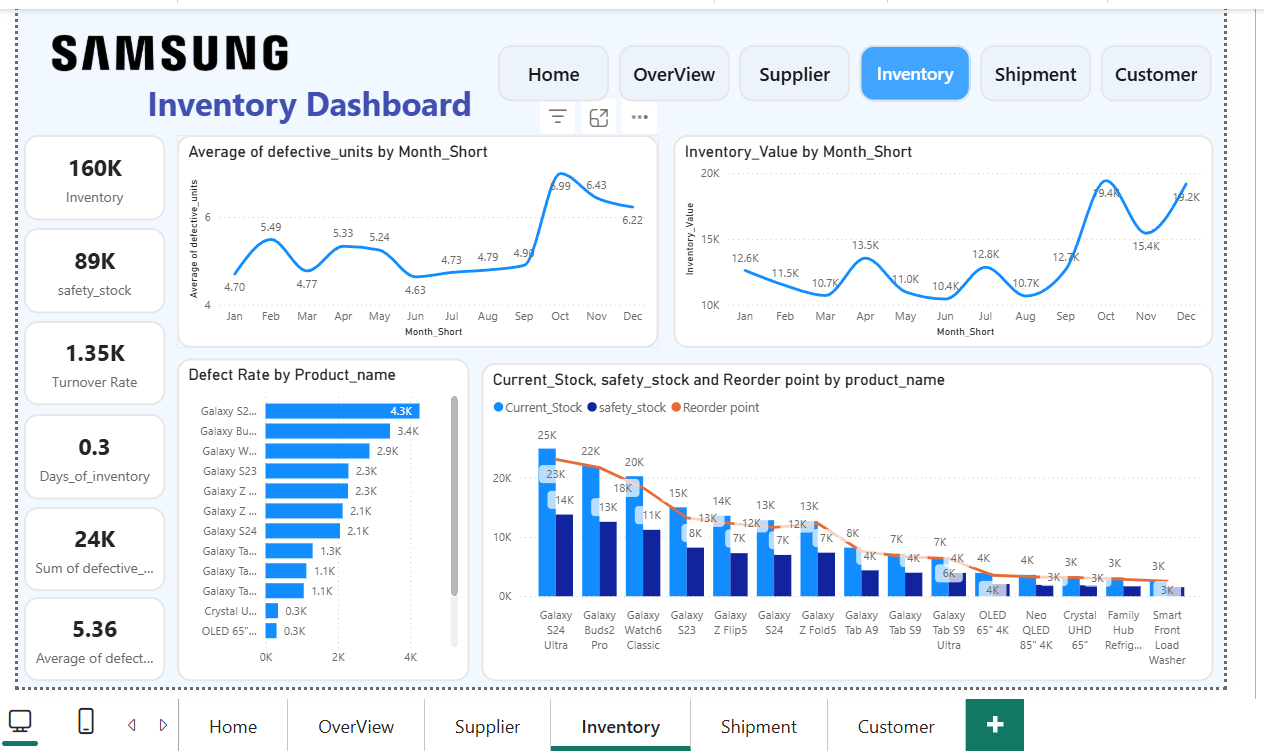

What the dashboard file says about the page in this screenshot:
{"tool":"powerbi","page":{"name":"Inventory","canvas":[1280,720],"ordinal":3},"visuals":[{"type":"card","fields":{"Values":["Sum(fact_production.defective_units)"]},"box":[6.4,528.8,149.7,89.2],"z":0},{"type":"card","fields":{"Values":["MeasuresTable.Inventory"]},"box":[6.4,133.8,149.7,90.8],"z":1000},{"type":"card","fields":{"Values":["MeasuresTable.Turnover Rate"]},"box":[6.4,331.3,149.7,89.2],"z":2000},{"type":"card","fields":{"Values":["MeasuresTable.safety_stock"]},"box":[6.4,232.6,149.7,90.8],"z":3000},{"type":"card","fields":{"Values":["MeasuresTable.Days_of_inventory"]},"box":[6.4,430.1,149.7,90.8],"z":4000},{"type":"card","fields":{"Values":["Avg(fact_production.defective_units)"]},"box":[6.4,624.4,149.7,89.2],"z":5000},{"type":"clusteredBarChart","title":"Defect Rate by Product_name","fields":{"Category":["dim_product.product_name"],"Y":["MeasuresTable.Defect_rate"]},"box":[168.8,371.2,310.6,342.5],"z":6000},{"type":"lineClusteredColumnComboChart","fields":{"Category":["dim_product.product_name"],"Y":["MeasuresTable.Inventory_Value","MeasuresTable.safety_stock"],"Y2":["MeasuresTable.Reorder point"]},"box":[492.2,375.9,777.3,337.7],"z":7000},{"type":"lineChart","fields":{"Y":["Avg(fact_production.defective_units)"],"Category":["dim_date.Month_Short"]},"box":[168.8,133.8,511.3,226.2],"z":8000},{"type":"lineChart","fields":{"Y":["MeasuresTable.Inventory_Value"],"Category":["dim_date.Month_Short"]},"box":[696.1,133.8,573.5,226.2],"z":9000},{"type":"pageNavigator","box":[509.7,38.2,761.4,60.5],"z":10000},{"type":"image","box":[15.9,6.4,278.8,79.6],"z":11000},{"type":"textbox","title":"Inventory Dashboard","box":[132.2,76.5,360,54.2],"z":12000}]}

Visuals, with their boxes on the page's 1280x720 design canvas (x1, y1, x2, y2). These are canvas units, not pixel positions in the 1264x751 screenshot, which may show the page scaled, cropped or inside an application window:
card - Sum(fact_production.defective_units): select_region(6, 529, 156, 618)
card - MeasuresTable.Inventory: select_region(6, 134, 156, 225)
card - MeasuresTable.Turnover Rate: select_region(6, 331, 156, 420)
card - MeasuresTable.safety_stock: select_region(6, 233, 156, 323)
card - MeasuresTable.Days_of_inventory: select_region(6, 430, 156, 521)
card - Avg(fact_production.defective_units): select_region(6, 624, 156, 714)
"Defect Rate by Product_name" clusteredBarChart: select_region(169, 371, 479, 714)
lineClusteredColumnComboChart - dim_product.product_name x MeasuresTable.Inventory_Value: select_region(492, 376, 1270, 714)
lineChart - Avg(fact_production.defective_units) x dim_date.Month_Short: select_region(169, 134, 680, 360)
lineChart - MeasuresTable.Inventory_Value x dim_date.Month_Short: select_region(696, 134, 1270, 360)
pageNavigator: select_region(510, 38, 1271, 99)
image: select_region(16, 6, 295, 86)
"Inventory Dashboard" textbox: select_region(132, 76, 492, 131)
